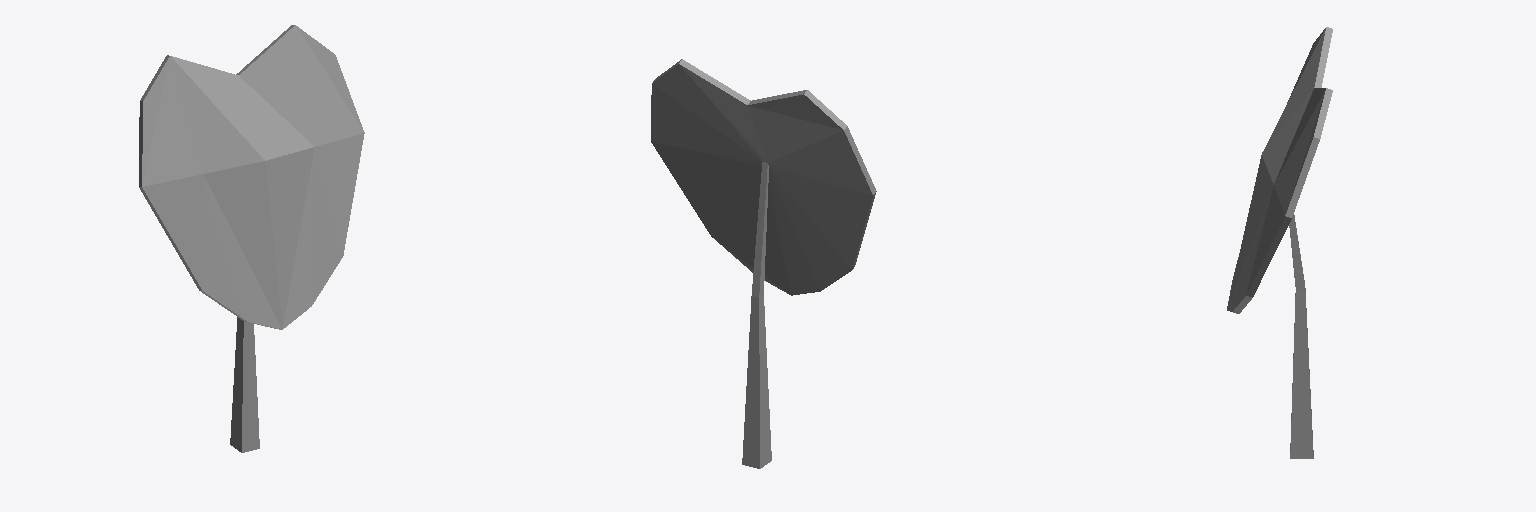
Rendered from Taro_Plant.obj.
3 views of the same model, side by side, from view 1: azimuth 30°, elevation 25°; view 2: azimuth 150°, elevation 25°; view 3: azimuth 270°, elevation 25° (orthographic).
Visible parts, largest first — view 1: Mesh_pCube8; view 2: Mesh_pCube8; view 3: Mesh_pCube8.
Part boxes in pixels (x1,y1,x2,y2): Mesh_pCube8: (139,25,364,452); Mesh_pCube8: (651,59,876,468); Mesh_pCube8: (1227,27,1332,458).
Size of the model in its own units: 34.76 by 59.32 by 14.41.